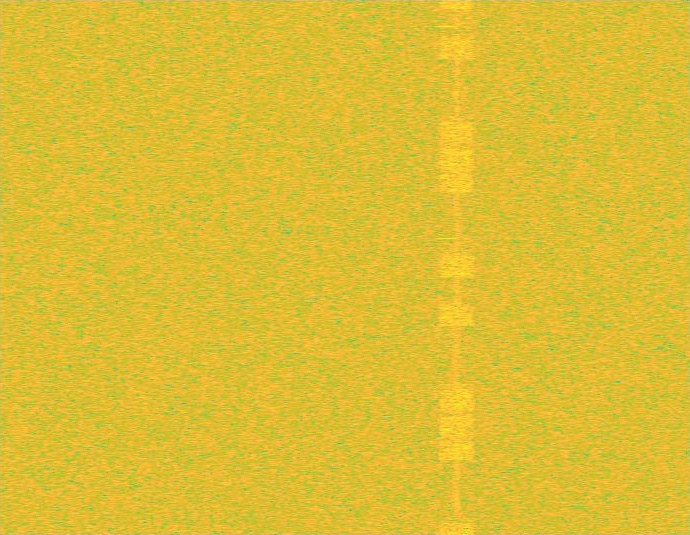DSSS: (455, 0, 459, 534)
LTE: (440, 0, 474, 534)
Radar: (440, 0, 454, 534)
